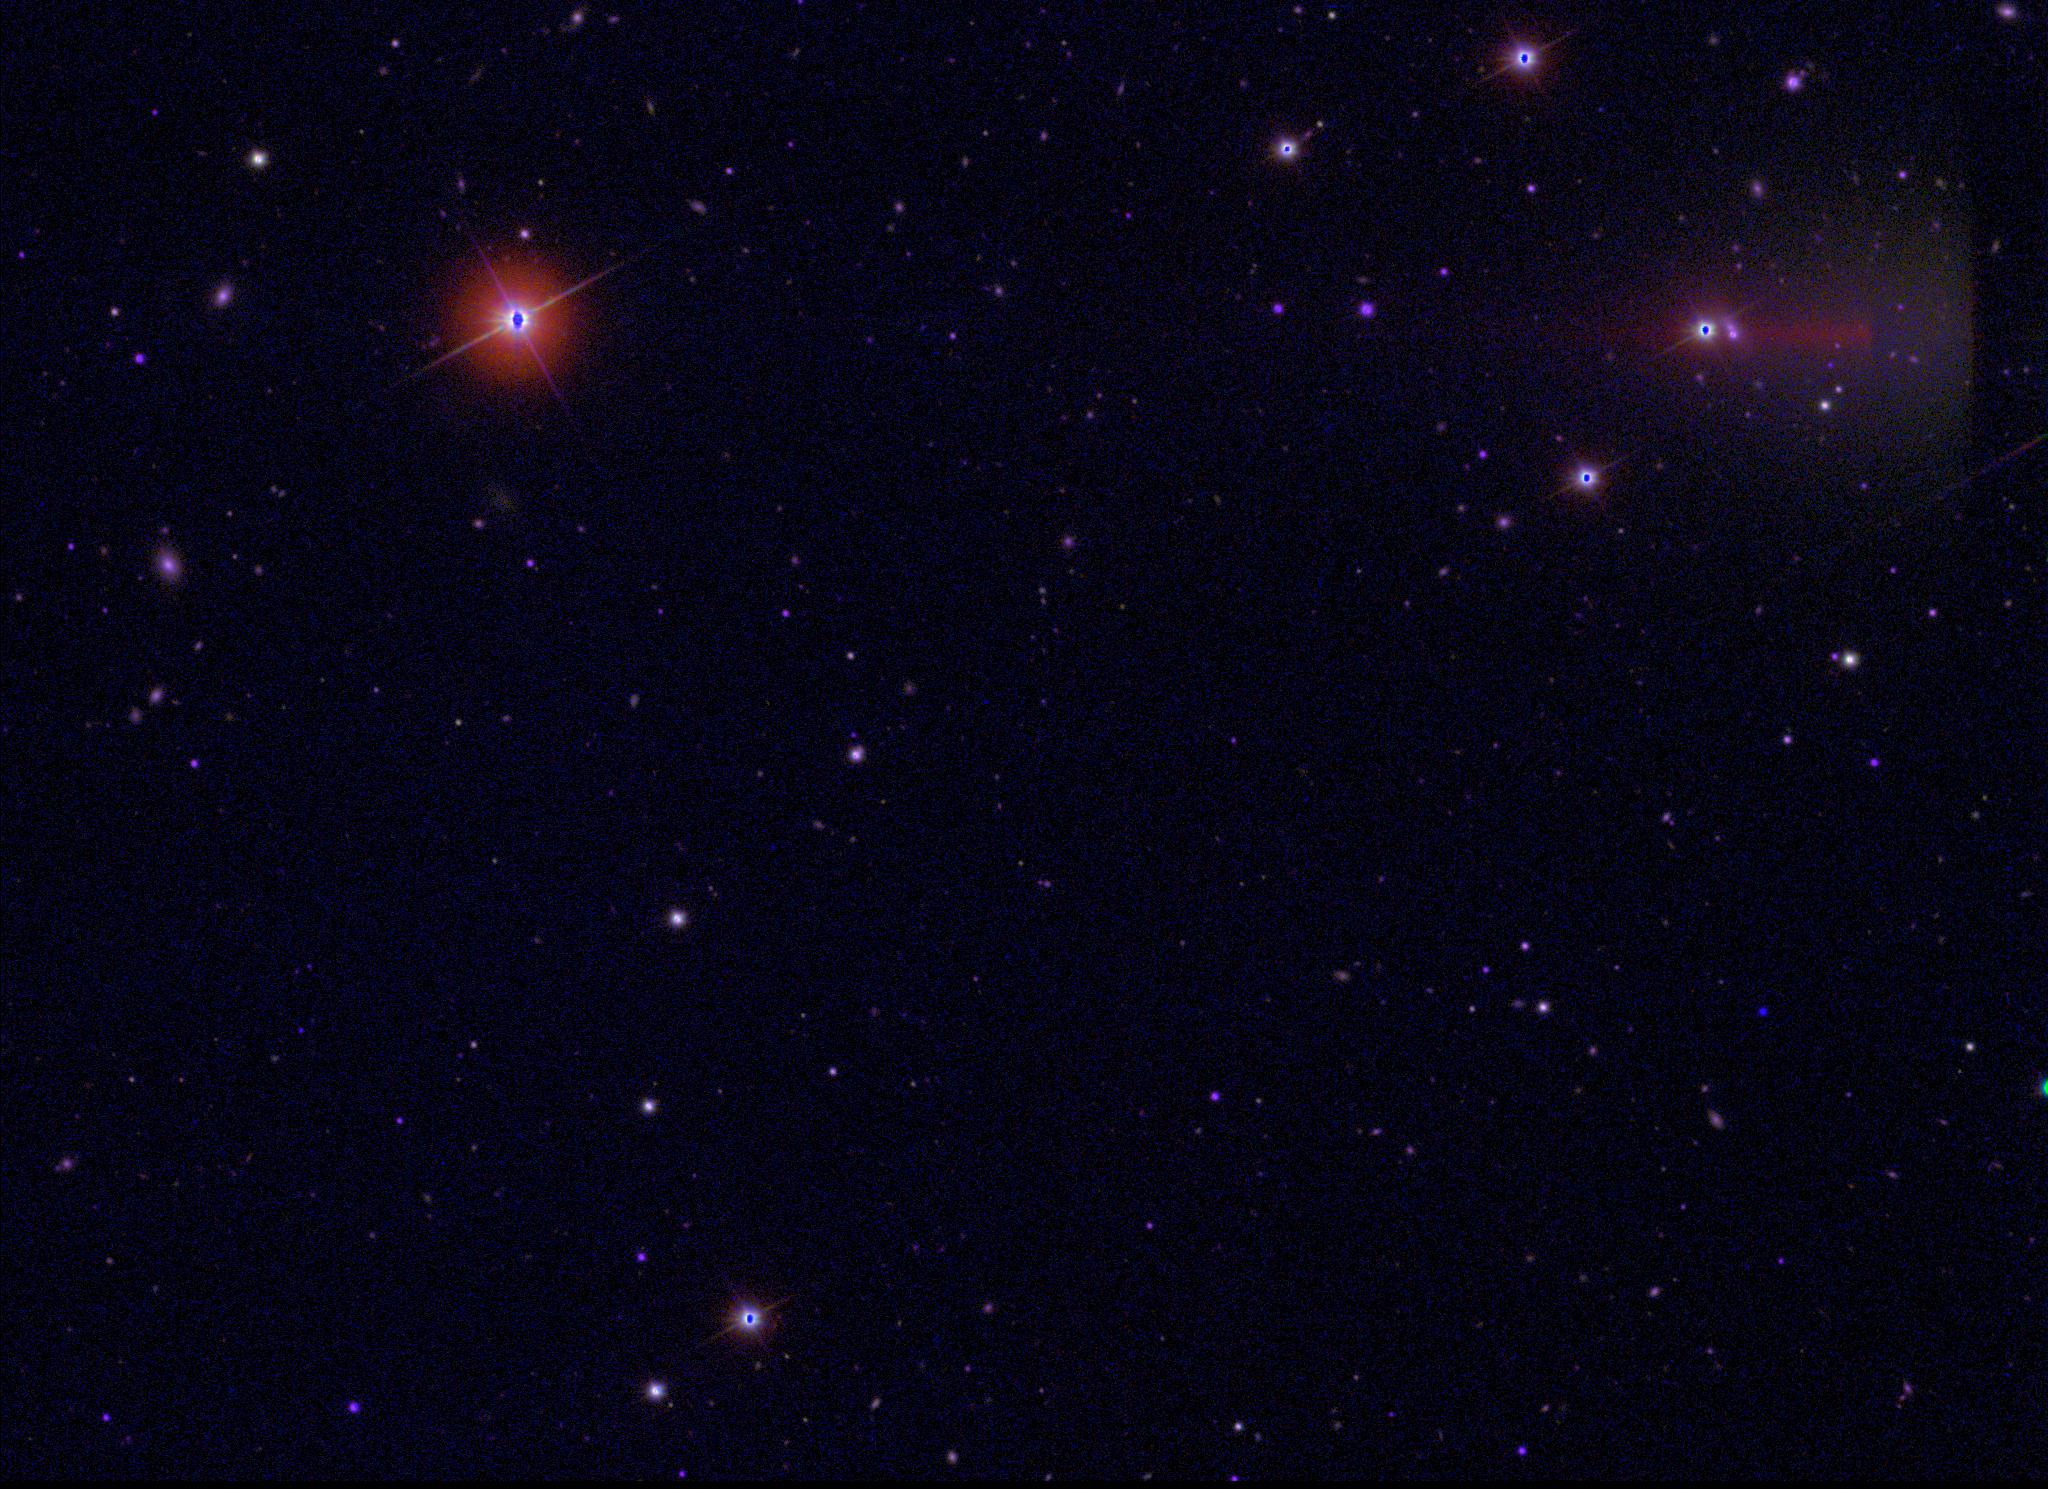L: (1755, 1005, 1770, 1020)
